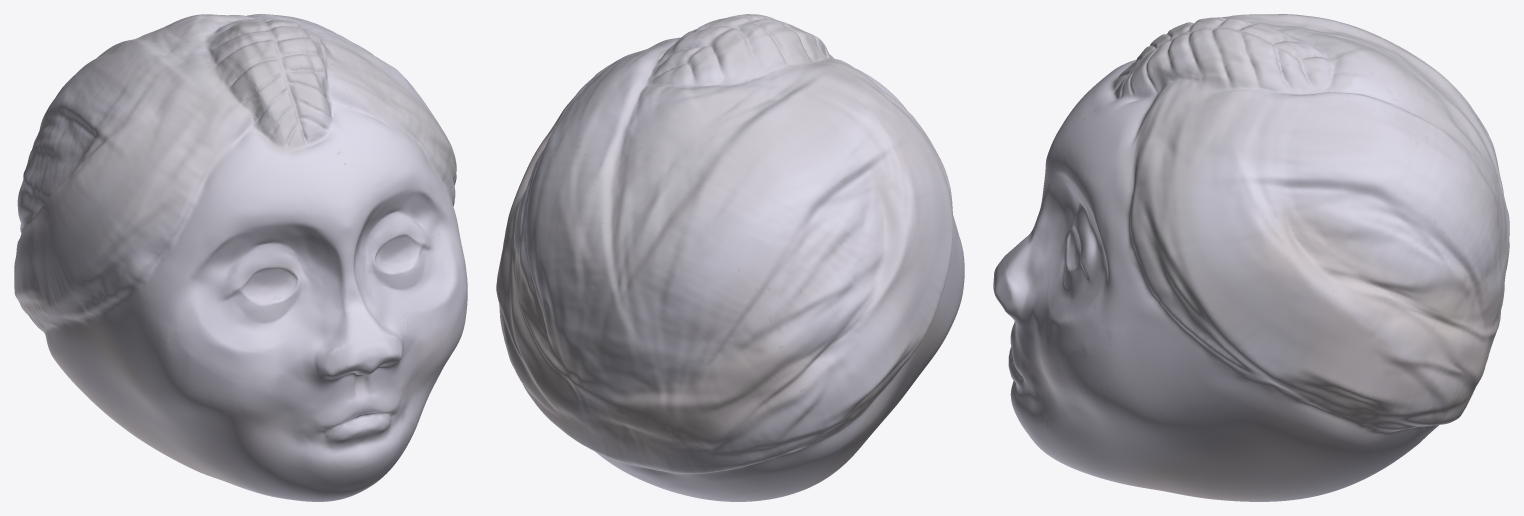
The picture shows the model from 3 angles, left to right: view 1: azimuth 30°, elevation 25°; view 2: azimuth 150°, elevation 25°; view 3: azimuth 270°, elevation 25°; orthographic projection. The views are drawn at different scales.
Parts seen in each view (by area): view 1: Sphere; view 2: Sphere; view 3: Sphere.
Part boxes in pixels (x1,y1,x2,y2): Sphere: [14, 14, 467, 501]; Sphere: [496, 14, 964, 501]; Sphere: [993, 14, 1509, 501].
Bounding box in the file's own units: 1.86 × 2.04 × 2.06.
Materials: 1 (1 with a texture image).
